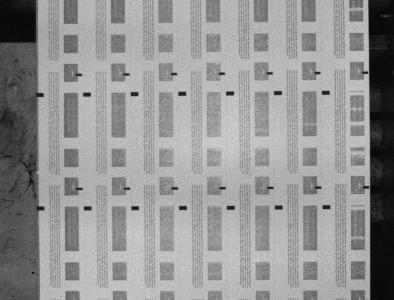qblock: (36, 92, 44, 97), (322, 90, 330, 95), (179, 91, 187, 96), (179, 206, 188, 210), (37, 206, 45, 210), (83, 92, 91, 96), (131, 92, 139, 96), (226, 91, 234, 95), (84, 206, 92, 210), (323, 205, 331, 209), (275, 205, 283, 209), (131, 206, 139, 210), (227, 205, 235, 209), (275, 91, 282, 95)
smallqblock: (123, 73, 130, 76), (171, 72, 178, 75), (219, 72, 226, 75), (76, 187, 83, 190), (76, 73, 82, 76), (267, 72, 273, 75), (315, 71, 321, 74), (124, 187, 130, 190), (363, 71, 369, 74), (316, 186, 322, 189), (268, 186, 274, 189), (172, 187, 178, 190), (220, 186, 226, 189), (364, 186, 370, 189)
